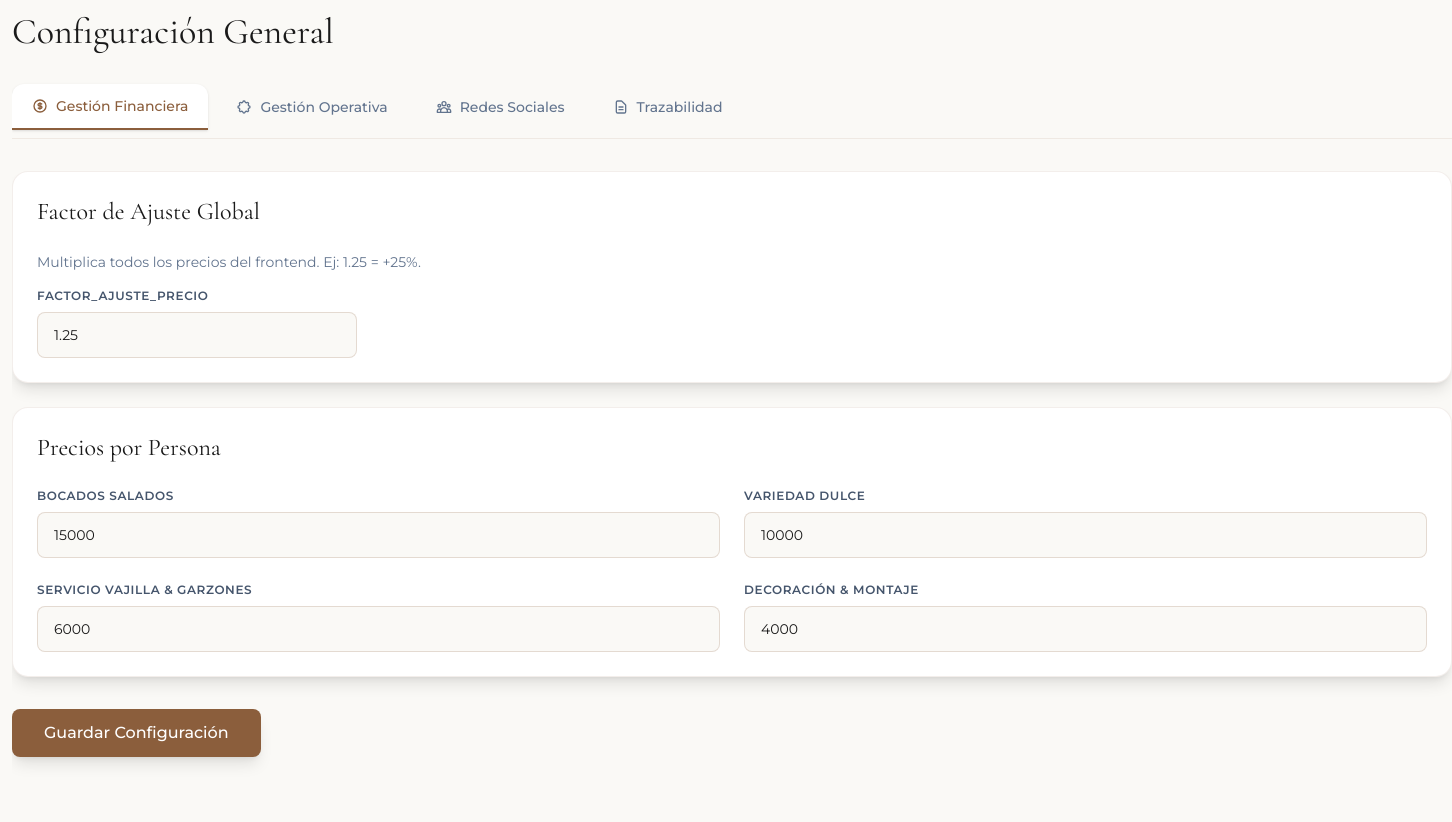
Test: Configuración Page › log viewer › shows logs in Trazabilidad tab
Click the button "Trazabilidad" at coordinates (668, 107), box [593, 84, 743, 130]
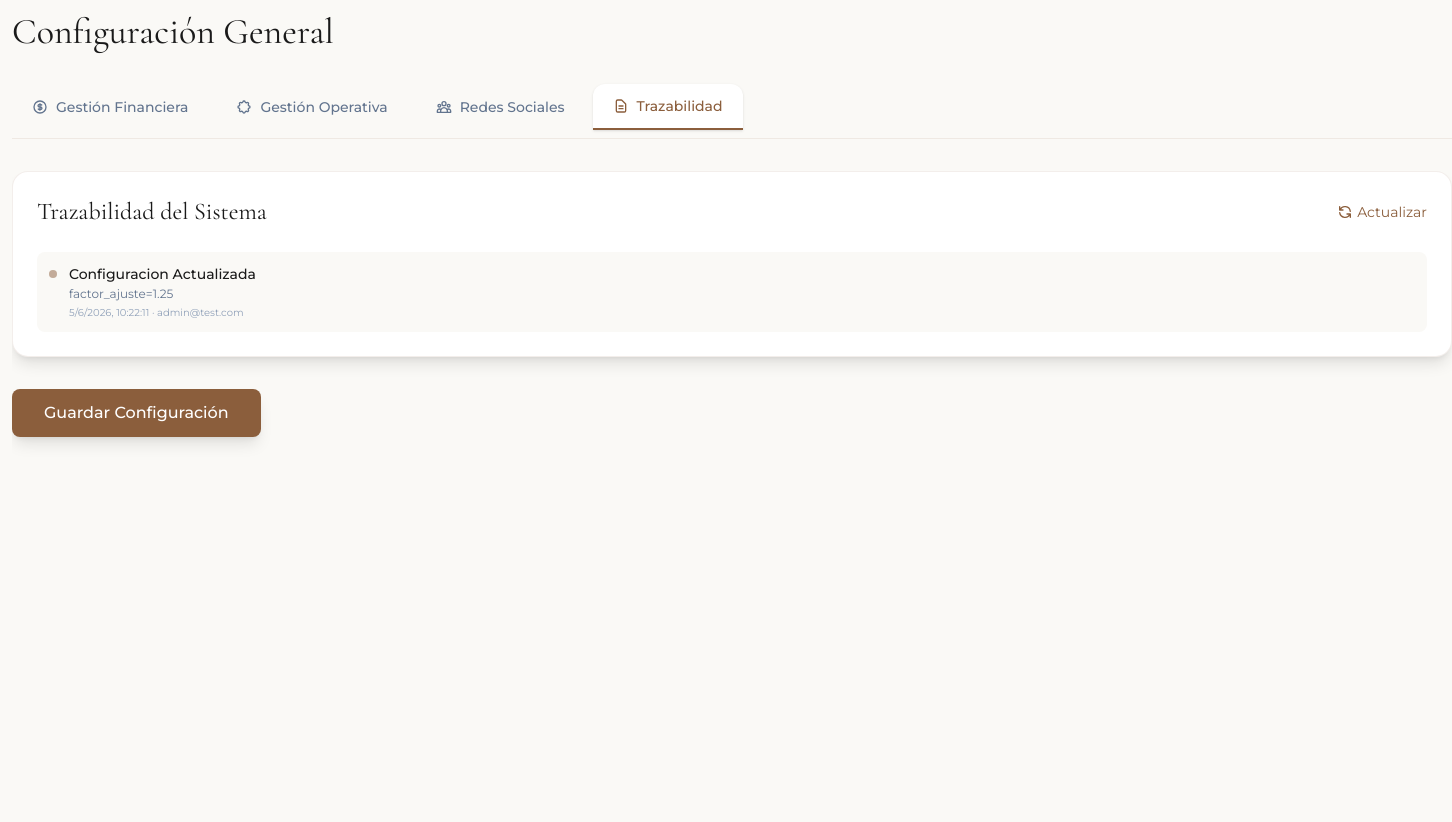
Result: the heading "Trazabilidad del Sistema" is shown at [37, 196, 267, 228]
Result: the text "configuracion actualizada" is shown at [69, 265, 256, 283]
Result: the text "factor_ajuste=1.25" is shown at [69, 286, 173, 301]
